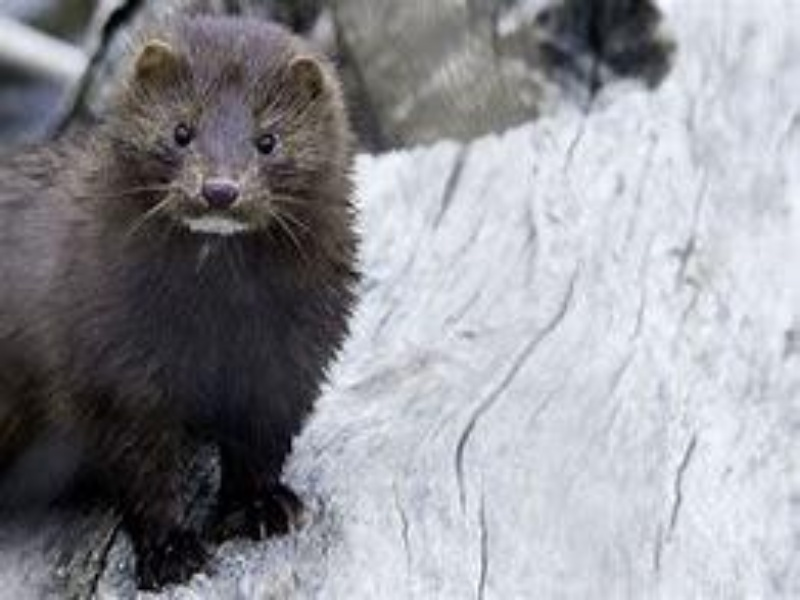minkish: (1, 13, 370, 584)
